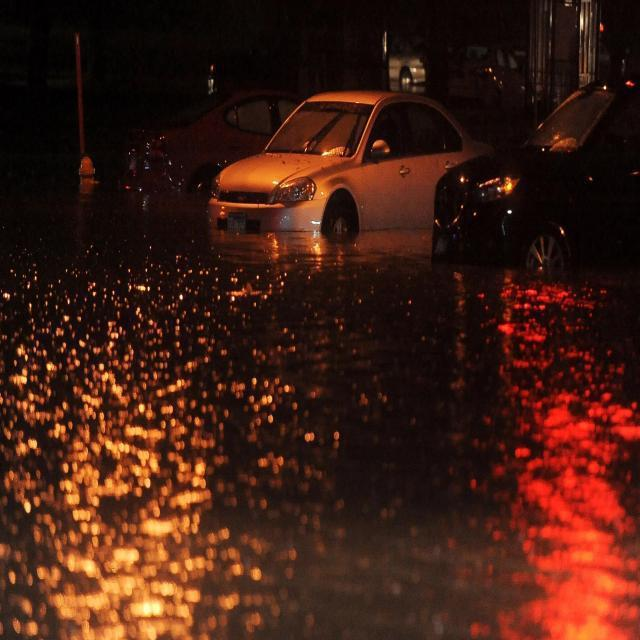water: (1, 185, 638, 638)
